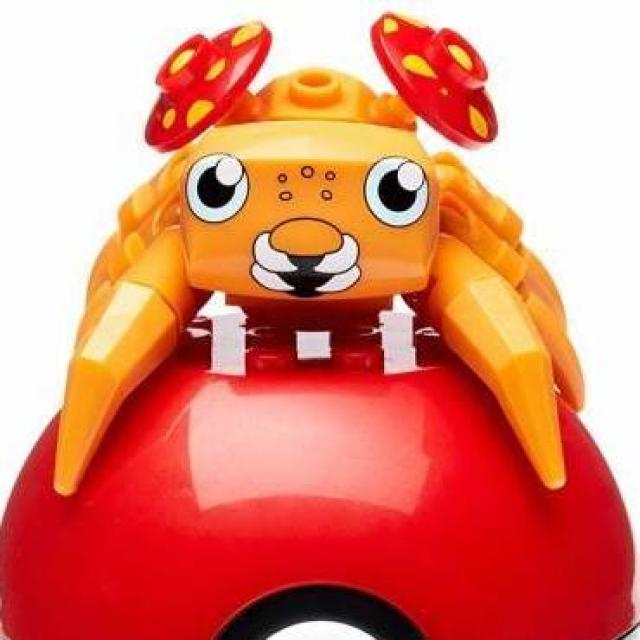Paras: (91, 68, 577, 356)
